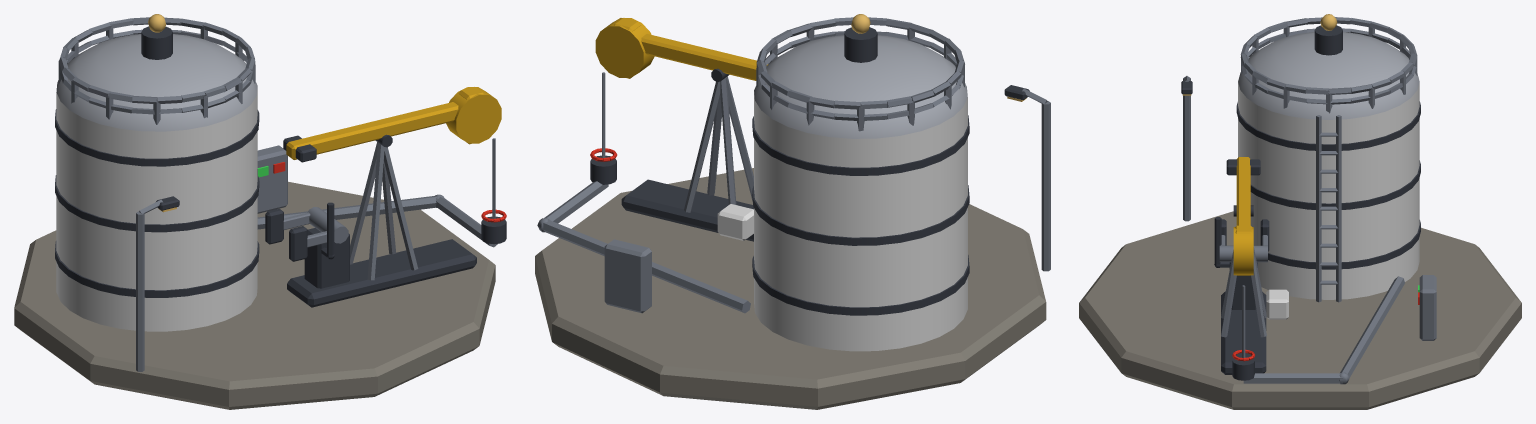
Rendered from extractor.fbx.
3 views of the same model, side by side, from view 1: azimuth 30°, elevation 25°; view 2: azimuth 150°, elevation 25°; view 3: azimuth 270°, elevation 25° (orthographic). The views are drawn at different scales.
Visible parts, largest first — view 1: extractor, extractor__pumpjack_beam, extractor__pumpjack_crank; view 2: extractor, extractor__pumpjack_beam; view 3: extractor, extractor__pumpjack_beam, extractor__pumpjack_crank.
Boxes of the visible parts, left/top/right/bottom form: extractor: left=14, top=14, right=506, bottom=409; extractor__pumpjack_beam: left=283, top=87, right=501, bottom=162; extractor__pumpjack_crank: left=265, top=207, right=348, bottom=261; extractor: left=535, top=14, right=1050, bottom=409; extractor__pumpjack_beam: left=595, top=18, right=768, bottom=81; extractor: left=1079, top=14, right=1521, bottom=409; extractor__pumpjack_beam: left=1226, top=157, right=1260, bottom=275; extractor__pumpjack_crank: left=1219, top=219, right=1269, bottom=262.
Bounding box in the file's own units: 1.54 × 1.06 × 1.56.
